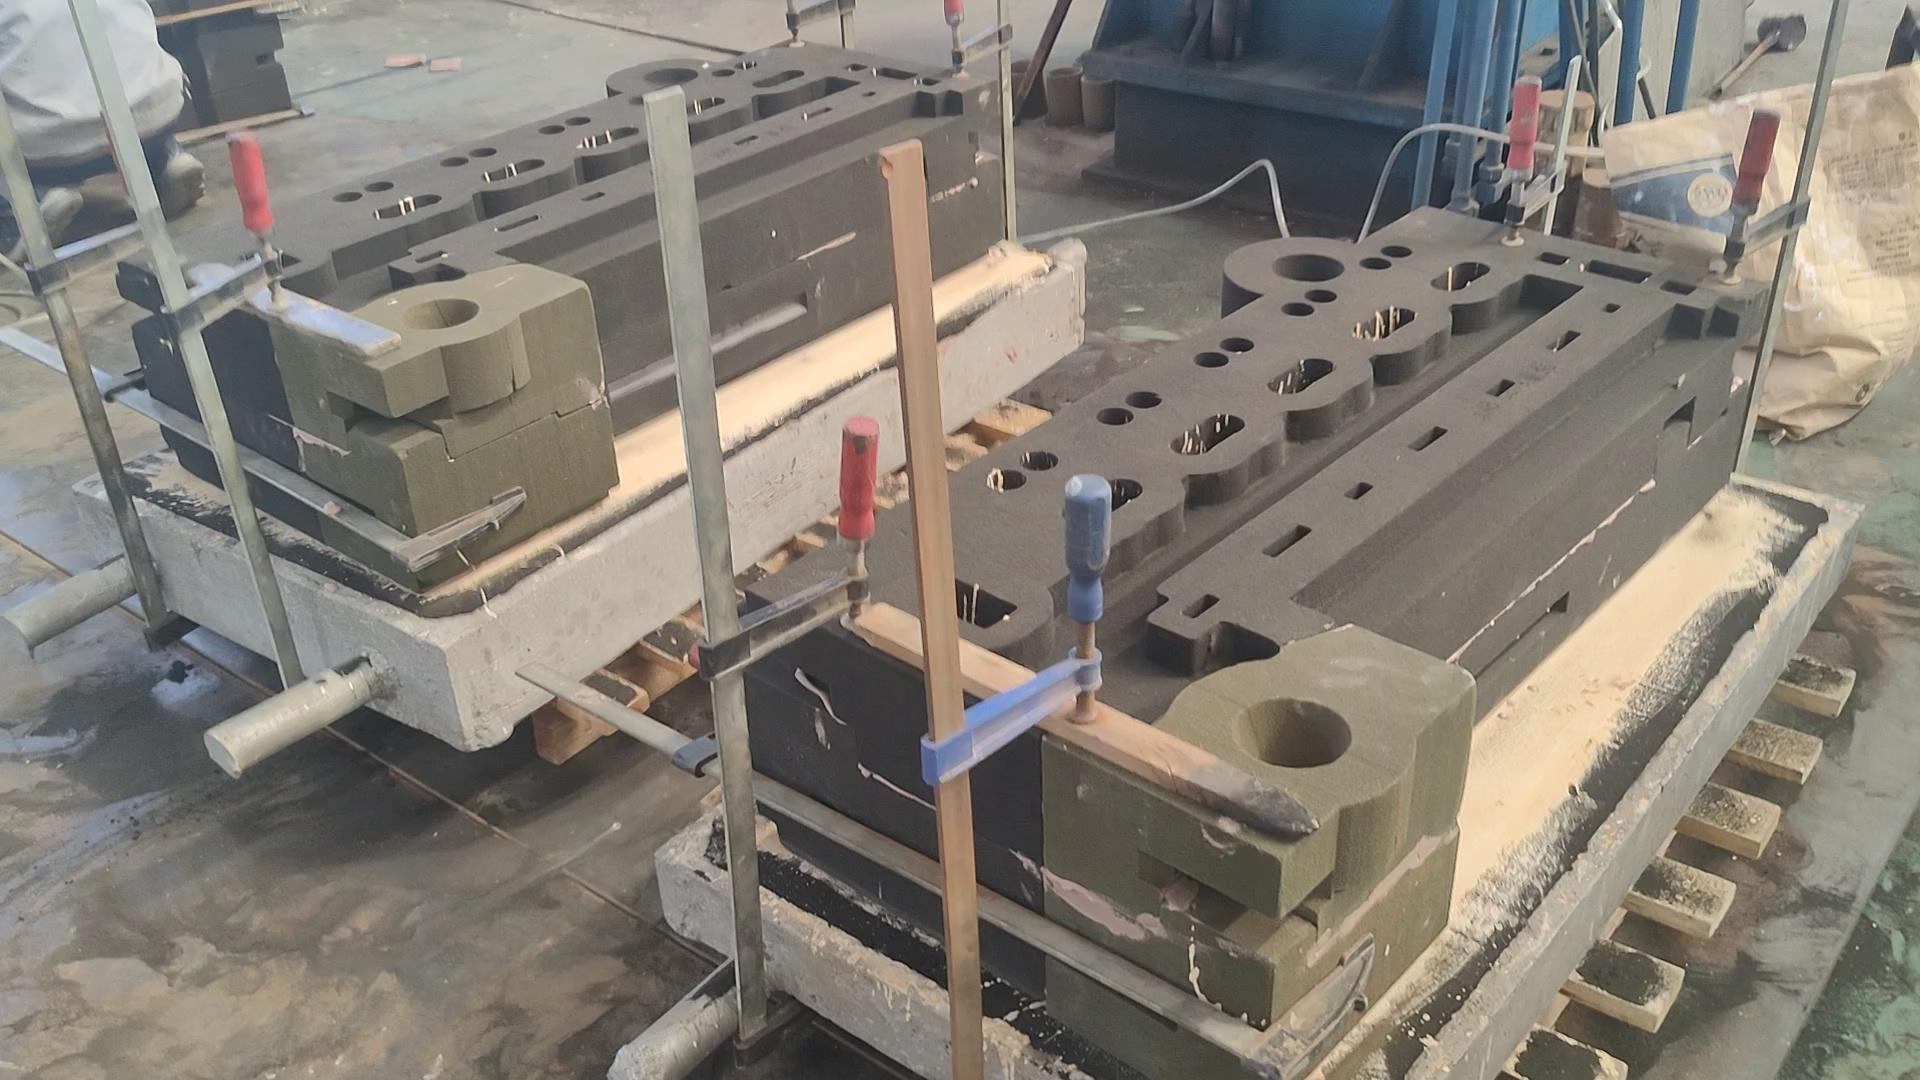pouring hole: (1232, 696, 1352, 767), (398, 298, 480, 331), (1271, 253, 1345, 281), (642, 67, 698, 83), (1081, 69, 1118, 84), (1009, 59, 1038, 75), (1073, 51, 1104, 66), (1046, 66, 1083, 76)
